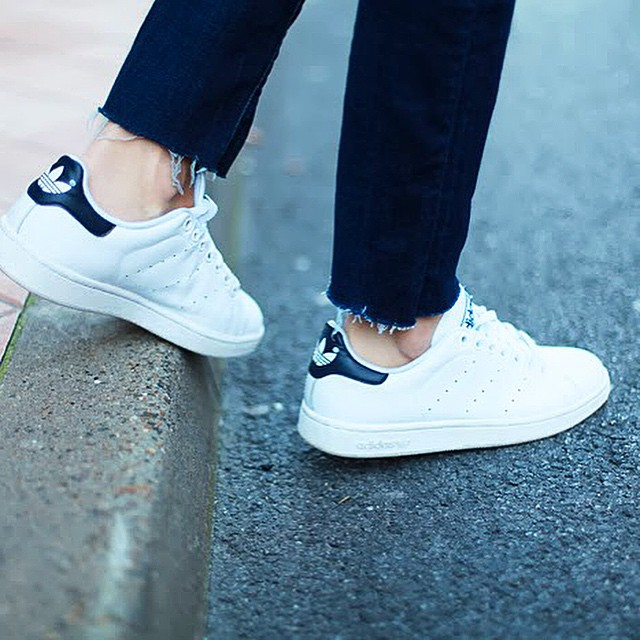sneaker: (1, 93, 285, 377), (277, 276, 629, 477)
